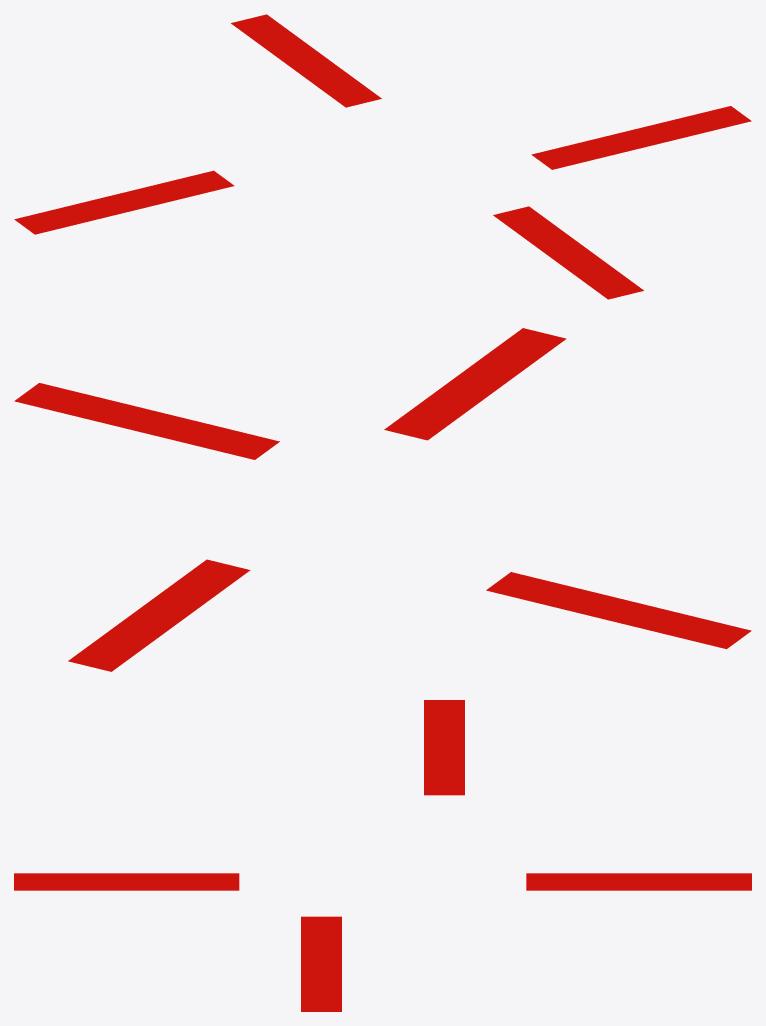
The model's file is Lining up.fbx.
3 renders of one model, top to bottom at view 1: azimuth 30°, elevation 25°; view 2: azimuth 150°, elevation 25°; view 3: azimuth 270°, elevation 25°, orthographic. The views are drawn at different scales.
Visible parts, largest first — view 1: Plane.016; view 2: Plane.016; view 3: Plane.016.
Part boxes in pixels (x1,y1,x2,y2): Plane.016: (14,14,751,299); Plane.016: (14,328,751,671); Plane.016: (14,700,751,1011).
Size of the model in its own units: 1600 by 0.000261 by 1600.
